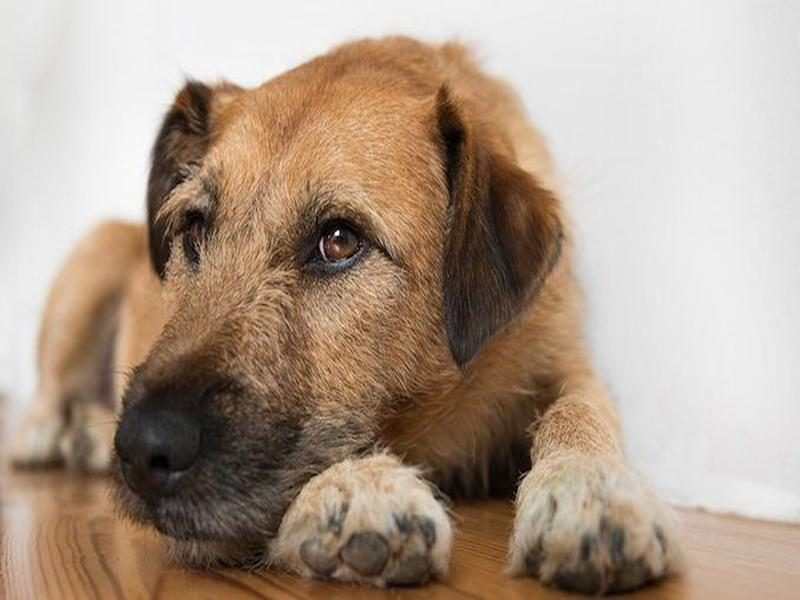dog_down: (32, 32, 688, 591)
